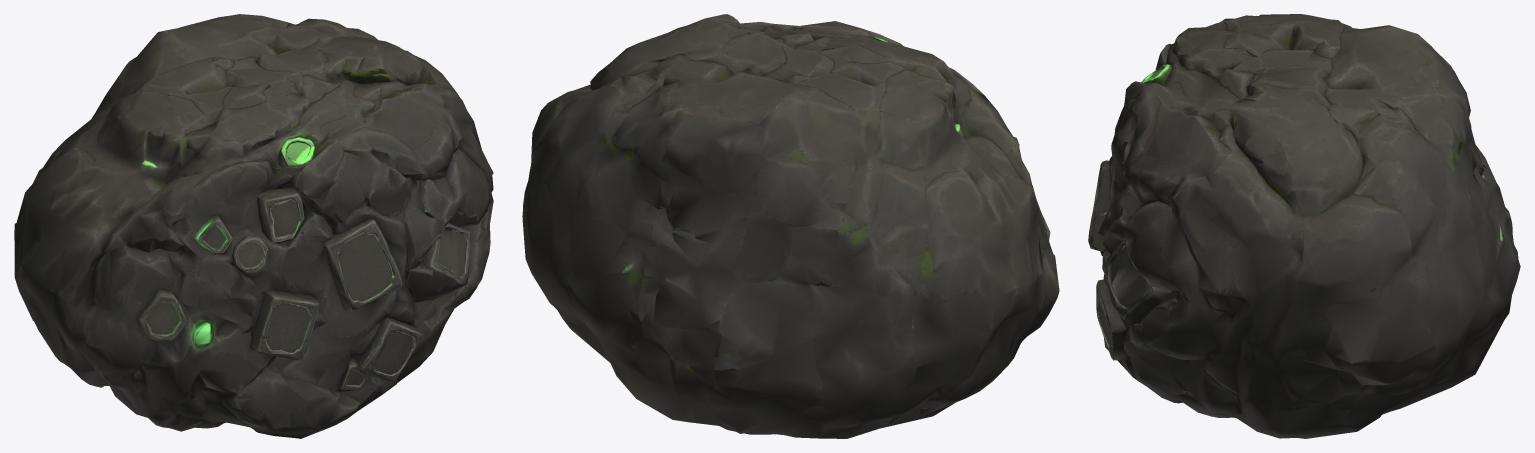
File: boulder.glb
3 renders of one model, left to right at view 1: azimuth 30°, elevation 25°; view 2: azimuth 150°, elevation 25°; view 3: azimuth 270°, elevation 25°, orthographic. The views are drawn at different scales.
Size of the model in its own units: 1.9 by 1.33 by 1.54.
1 material, 1 textured.
